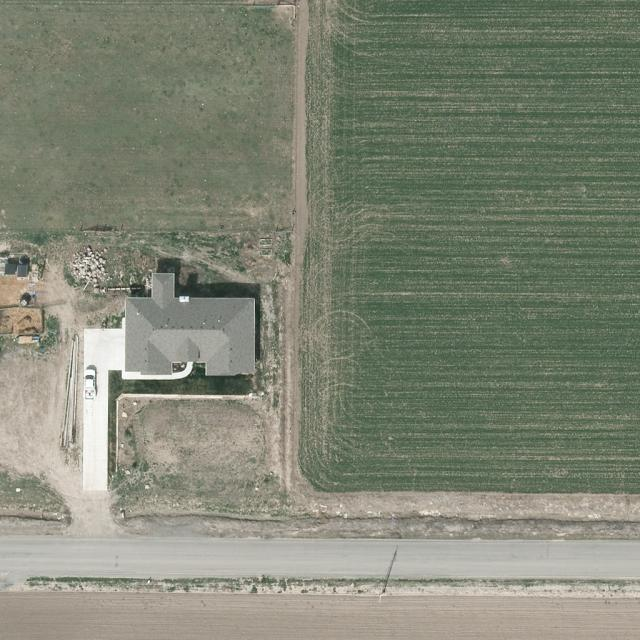vehicle: (82, 369, 96, 402)
